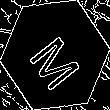M_NE: (24, 21, 86, 89)
